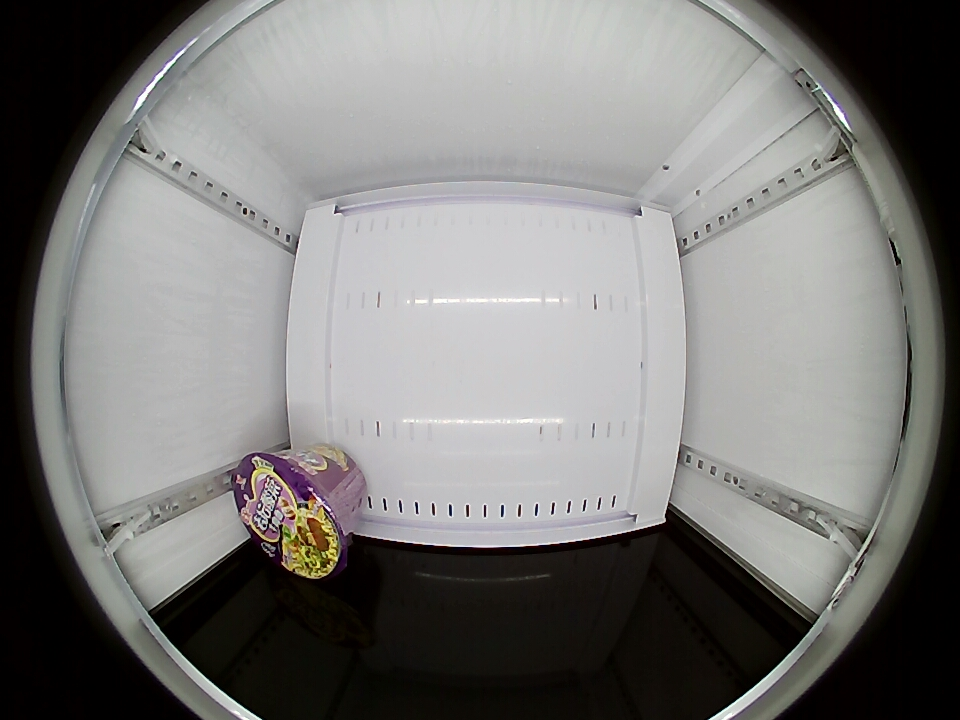laotansuancai: (233, 451, 349, 580)
